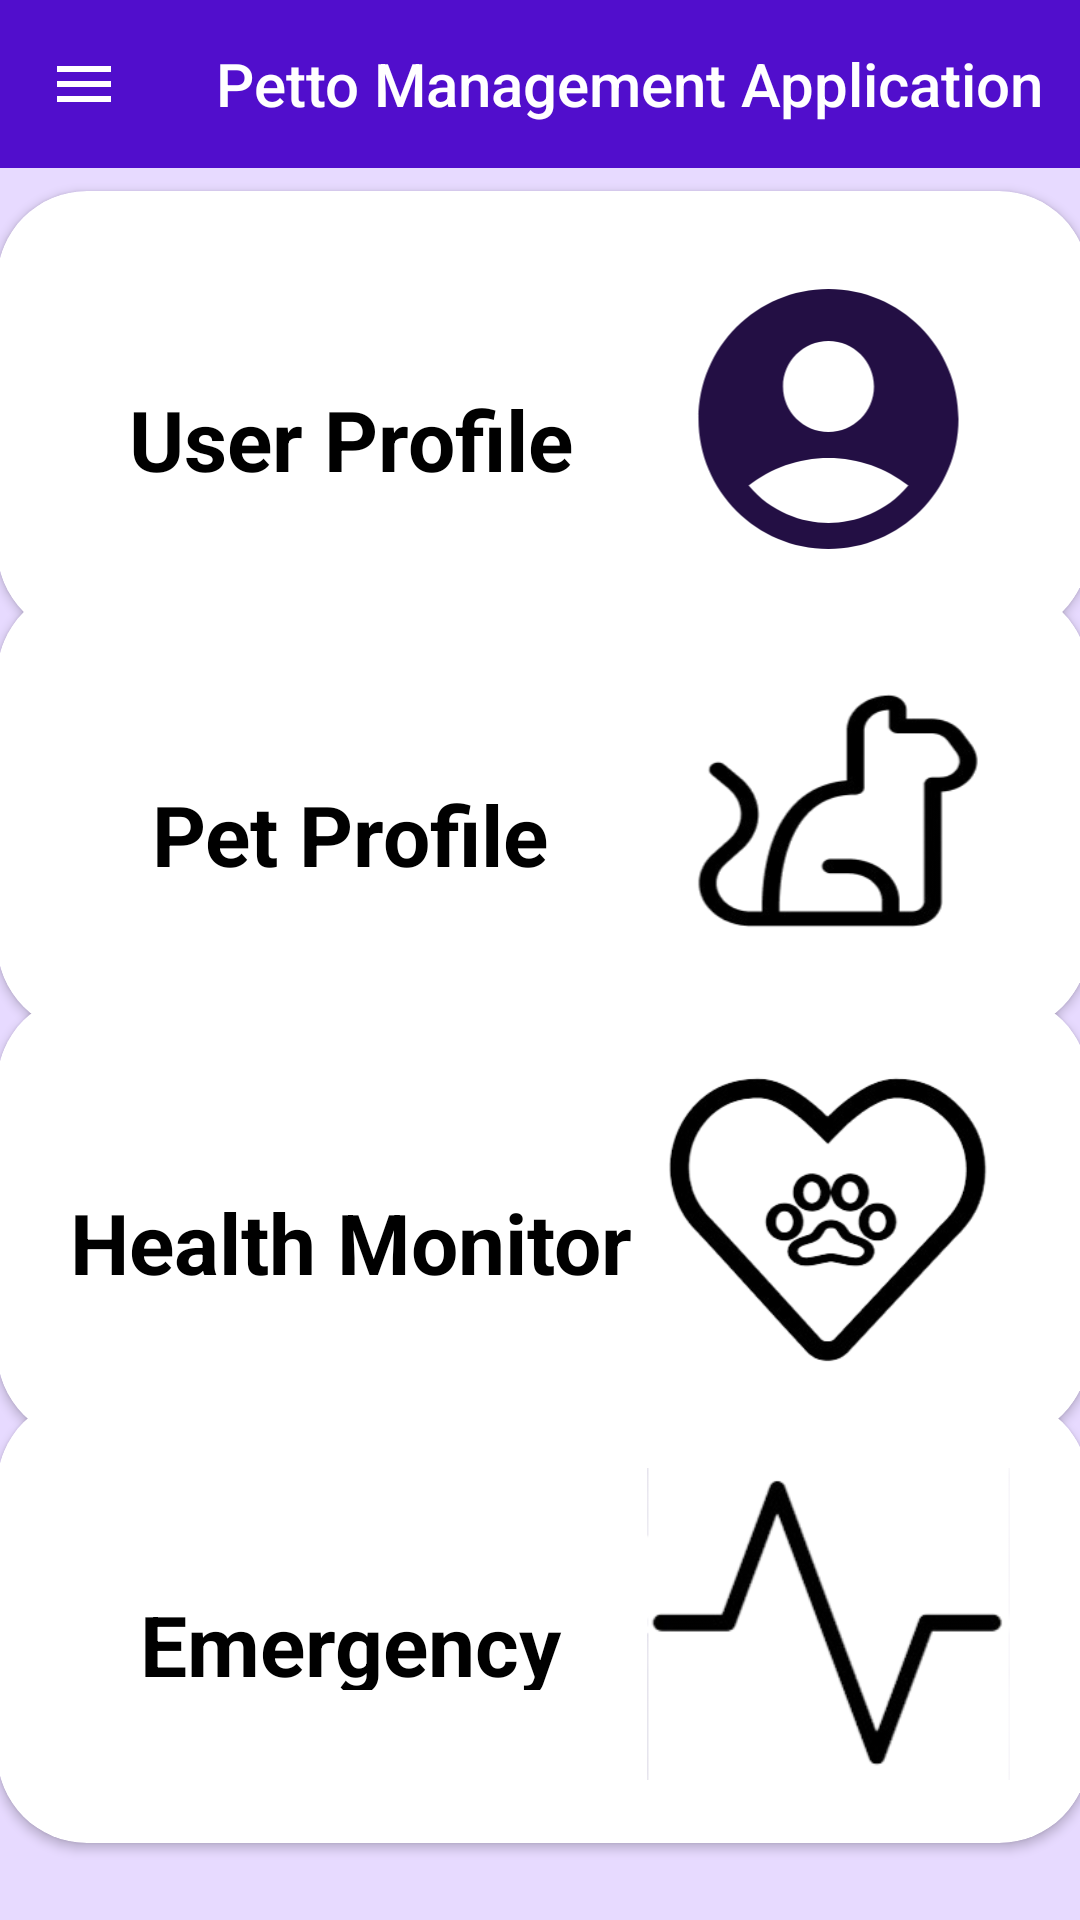

Named icons in this screenshot (1080x1920) and their bounding boxes, (x1, y1, x2, y2):
account: (698, 289, 959, 549)
peticon: (698, 695, 978, 927)
